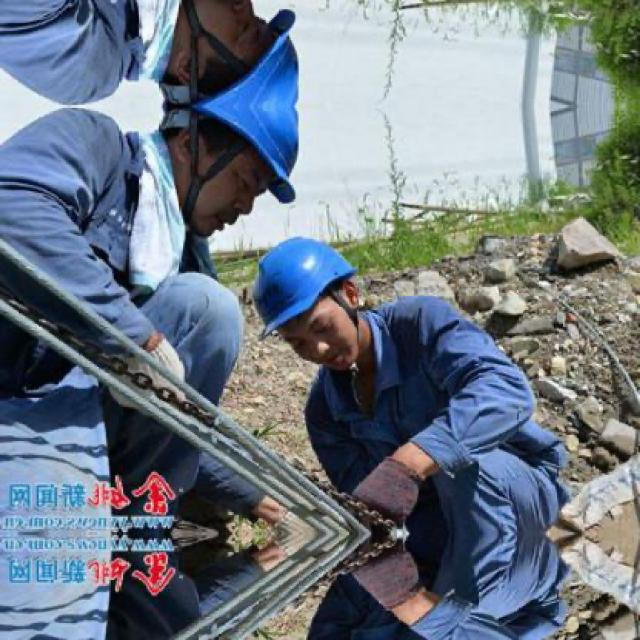2: (3, 108, 297, 526), (243, 236, 562, 532), (243, 535, 563, 639), (4, 0, 299, 106), (3, 542, 299, 638)
helmet: (146, 109, 312, 247), (242, 218, 369, 370), (145, 0, 312, 105)
